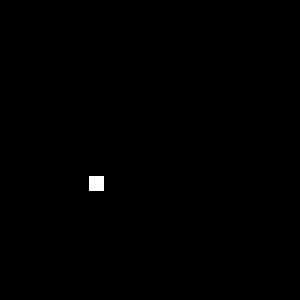circle: (89, 176, 104, 191)
